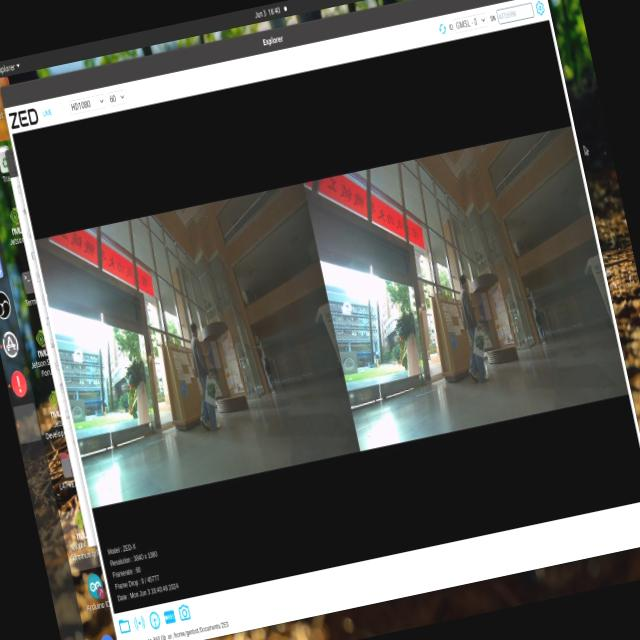green: (196, 372, 222, 404), (475, 334, 488, 359)
